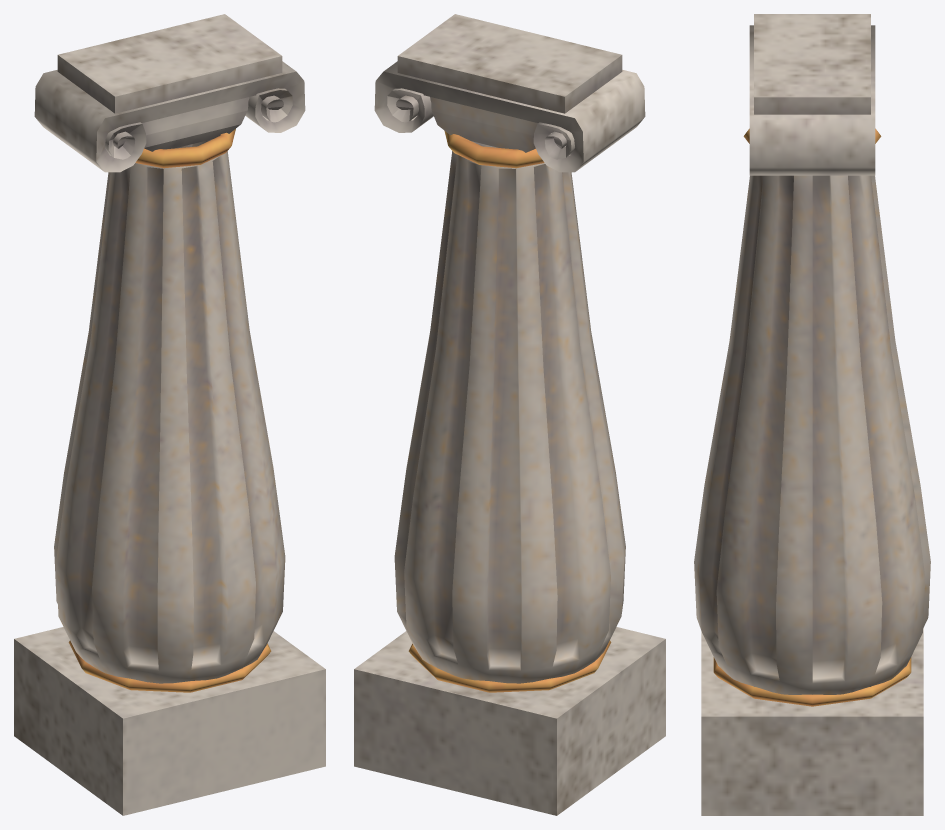
Rendered from pillar.fbx.
The picture shows the model from 3 angles, left to right: view 1: azimuth 30°, elevation 25°; view 2: azimuth 150°, elevation 25°; view 3: azimuth 270°, elevation 25°; orthographic projection. The views are drawn at different scales.
Visible parts, largest first — view 1: ionic_pillar; view 2: ionic_pillar; view 3: ionic_pillar.
Part boxes in pixels (x1,y1,x2,y2): ionic_pillar: (14, 14, 325, 815); ionic_pillar: (354, 14, 665, 815); ionic_pillar: (694, 14, 930, 815).
Size of the model in its own units: 83.88 by 267 by 80.69.
